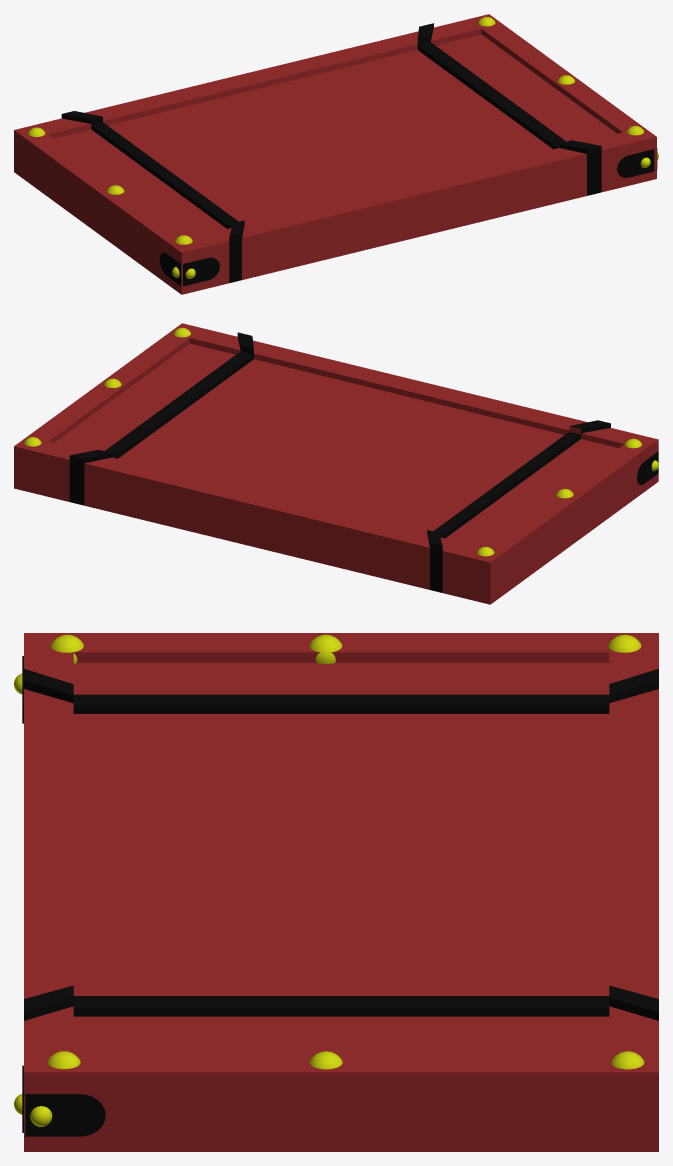
Rendered from Chest2-1.FBX.
3 views of the same model, one above another, from view 1: azimuth 30°, elevation 25°; view 2: azimuth 150°, elevation 25°; view 3: azimuth 270°, elevation 25° (orthographic). The views are drawn at different scales.
Visible parts, largest first — view 1: Box002; view 2: Box002; view 3: Box002.
Boxes of the visible parts, <box> form: Box002: <box>14,14,658,294</box>; Box002: <box>14,323,658,604</box>; Box002: <box>14,633,658,1151</box>.
Bounding box in the file's own units: 73.97 × 6.85 × 44.97.
